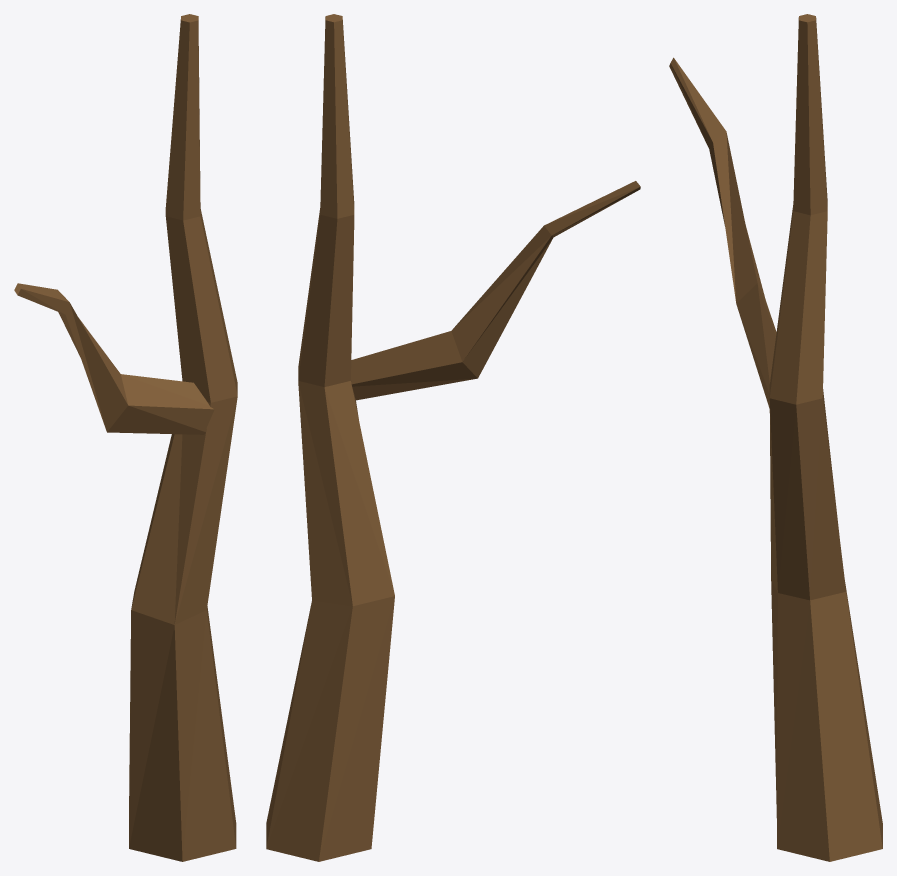
File: Tree_1_3.FBX
The picture shows the model from 3 angles, left to right: view 1: azimuth 30°, elevation 25°; view 2: azimuth 150°, elevation 25°; view 3: azimuth 270°, elevation 25°; orthographic projection.
Visible parts, largest first — view 1: Tree_1_3; view 2: Tree_1_3; view 3: Tree_1_3.
Part boxes in pixels (left/top/right/bottom): Tree_1_3: left=14, top=14, right=237, bottom=861; Tree_1_3: left=266, top=14, right=640, bottom=861; Tree_1_3: left=669, top=14, right=882, bottom=861.
Size of the model in its own units: 62.93 by 165 by 39.09.
Materials: 1 (1 with a texture image).
